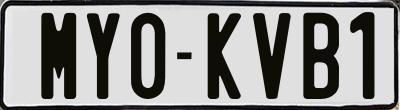0: (128, 12, 163, 98)
1: (347, 10, 378, 101)
B: (302, 11, 340, 103)
K: (208, 13, 241, 102)
M: (41, 10, 80, 102)
V: (251, 11, 289, 100)
Y: (84, 12, 117, 99)
